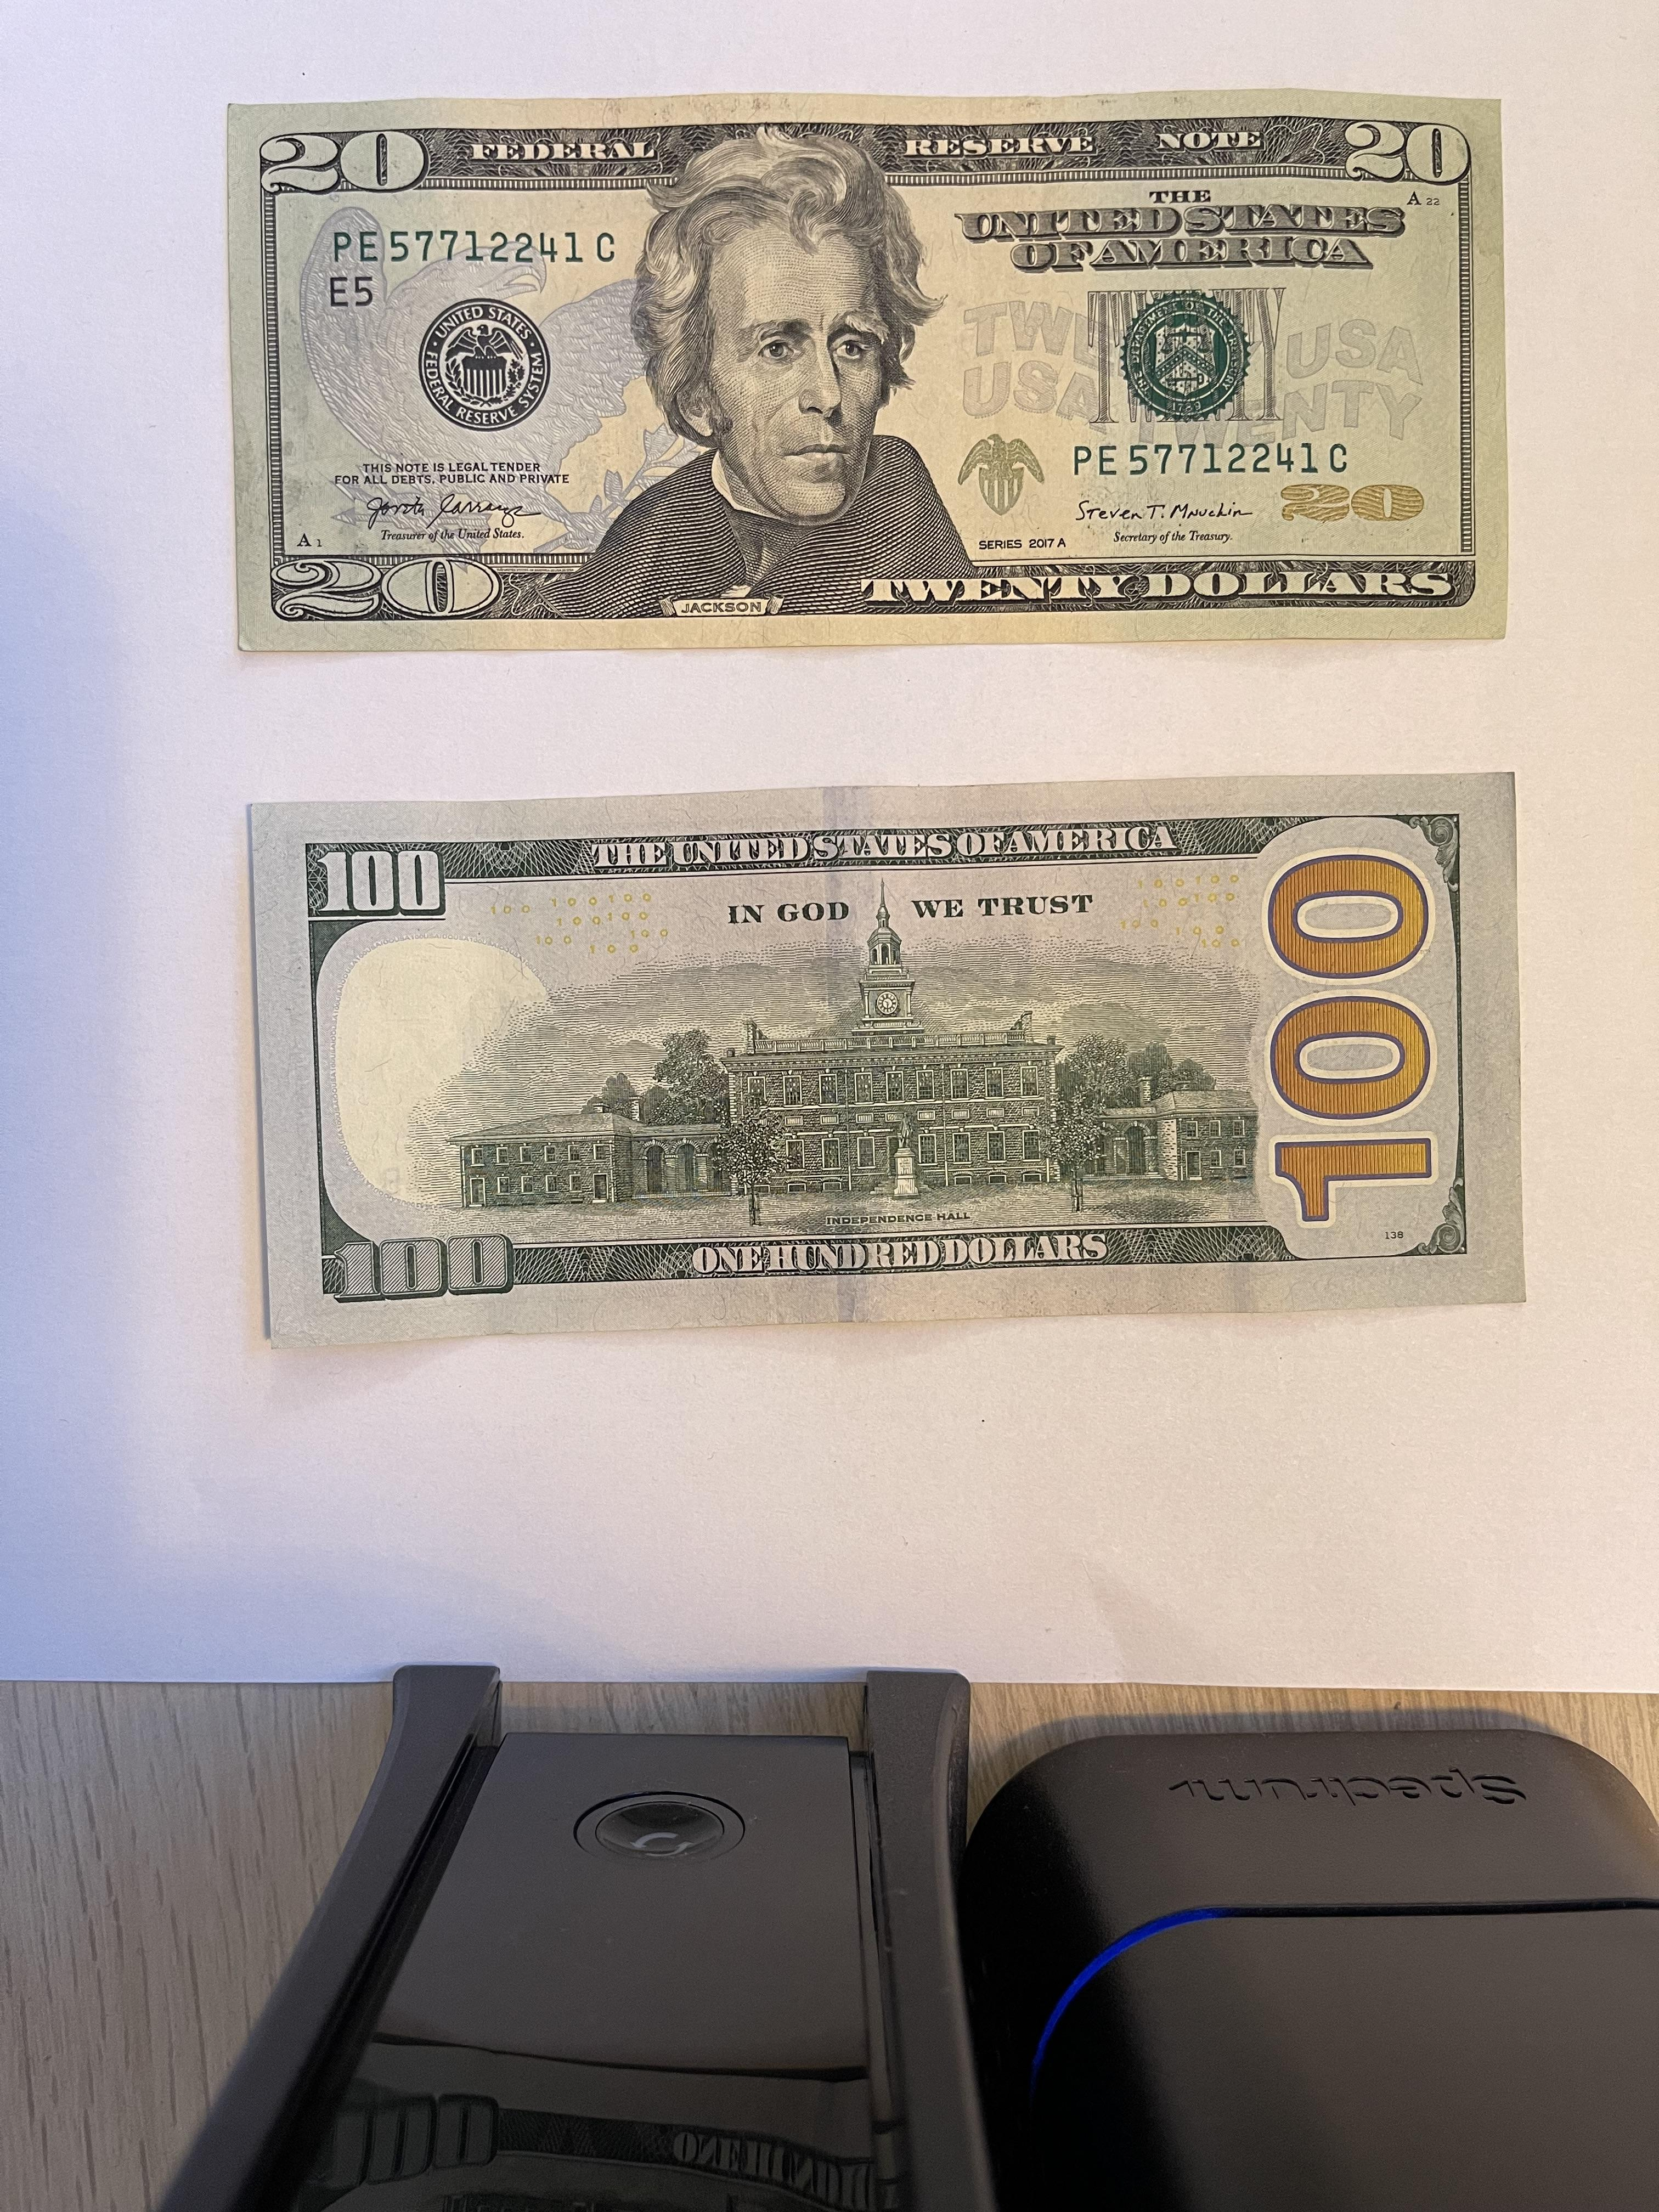HundredBill: (244, 768, 1528, 1355)
TwentyBill: (221, 87, 1511, 657)
